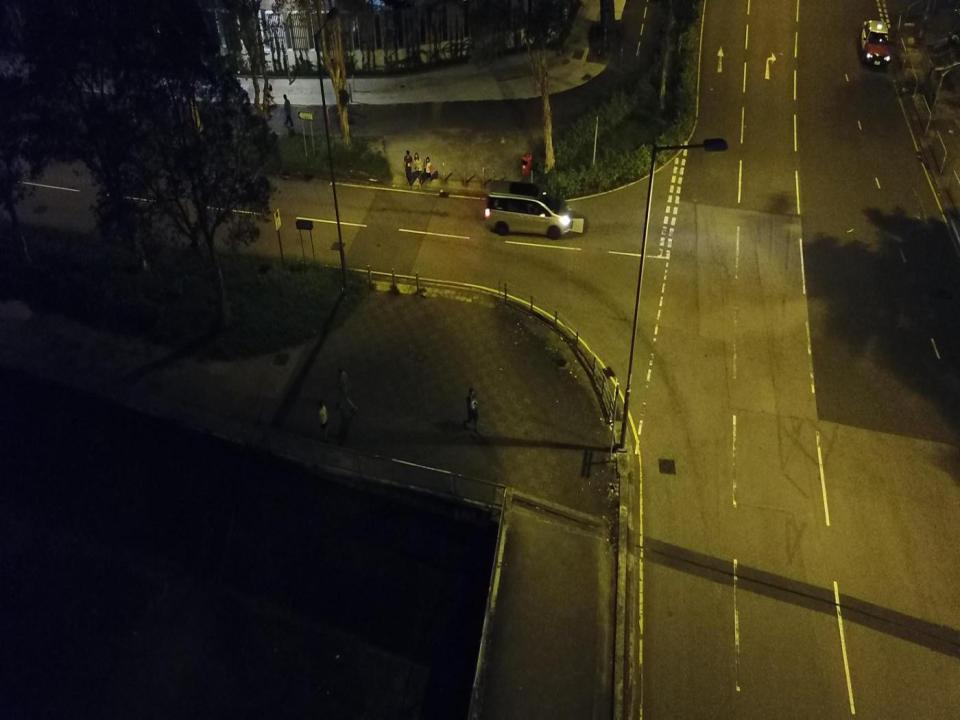car: (860, 18, 892, 68)
van: (483, 179, 572, 240)
